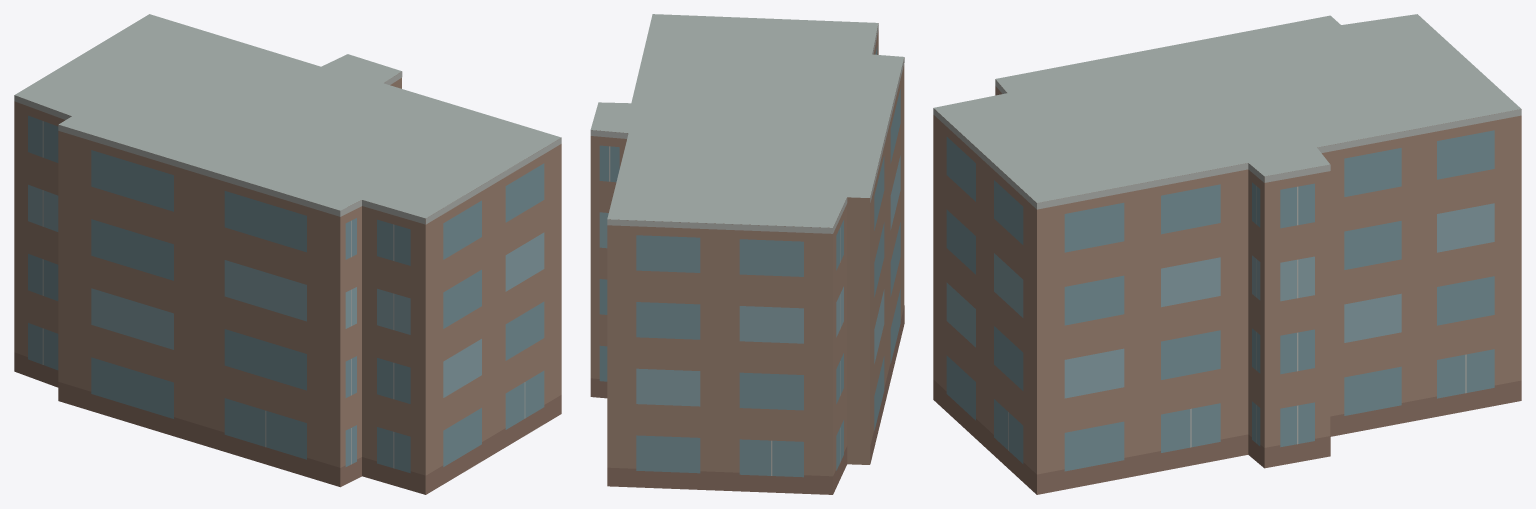
The model's file is survey-upis-32582936.glb.
3 renders of one model, left to right at view 1: azimuth 30°, elevation 25°; view 2: azimuth 150°, elevation 25°; view 3: azimuth 270°, elevation 25°, orthographic. The views are drawn at different scales.
Visible parts, largest first — view 1: survey-upis-32582936.tmp; view 2: survey-upis-32582936.tmp; view 3: survey-upis-32582936.tmp.
Boxes of the visible parts, x1,y1,x2,y2 form: survey-upis-32582936.tmp: (14,14,561,494); survey-upis-32582936.tmp: (590,14,904,494); survey-upis-32582936.tmp: (933,14,1521,494).
Bounding box in the file's own units: 15.15 × 10.9 × 19.92.
